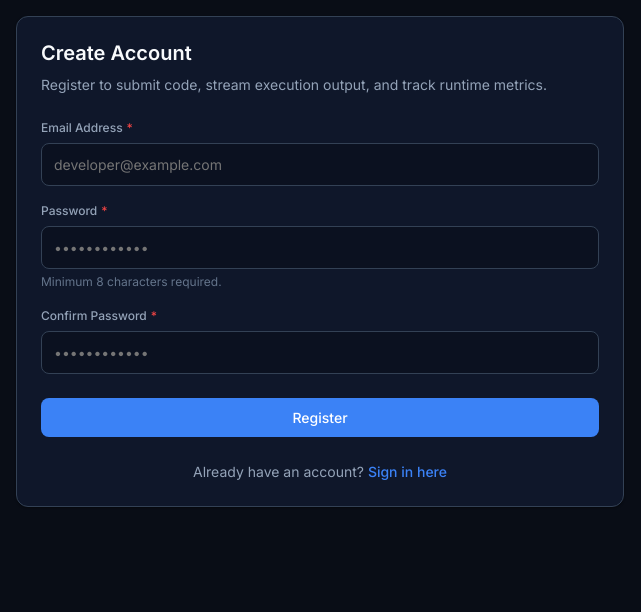
Test: RegisterPage › displays backend conflict error if email is already registered
The width and height of the screenshot is (641, 612).
Type "existing@example.com" into the field labelled "Email Address*" at (320, 164), box [41, 143, 599, 186]
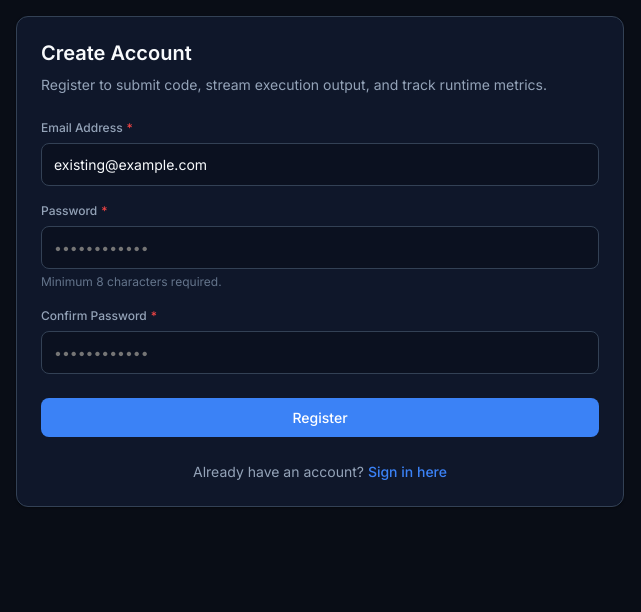
Type "password123" into the password field labelled "Password*" at (320, 248), box [41, 226, 599, 269]
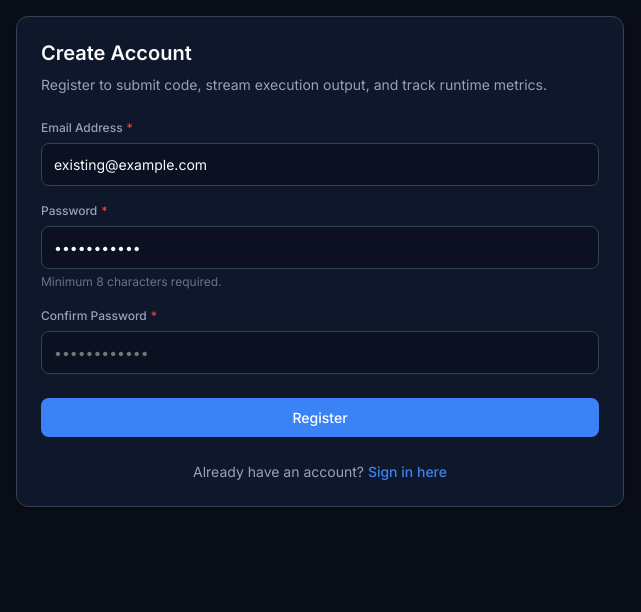
Type "password123" into the password field labelled "Confirm Password*" at (320, 352), box [41, 331, 599, 374]
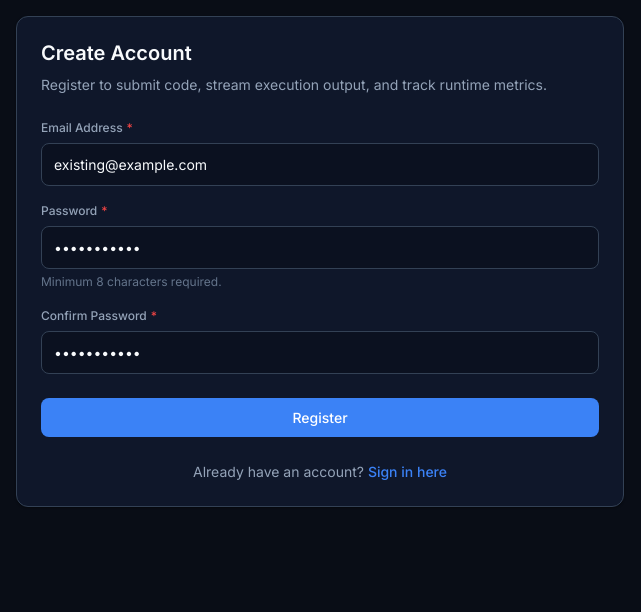
Click the button "Register" at (320, 418), box [41, 398, 599, 437]
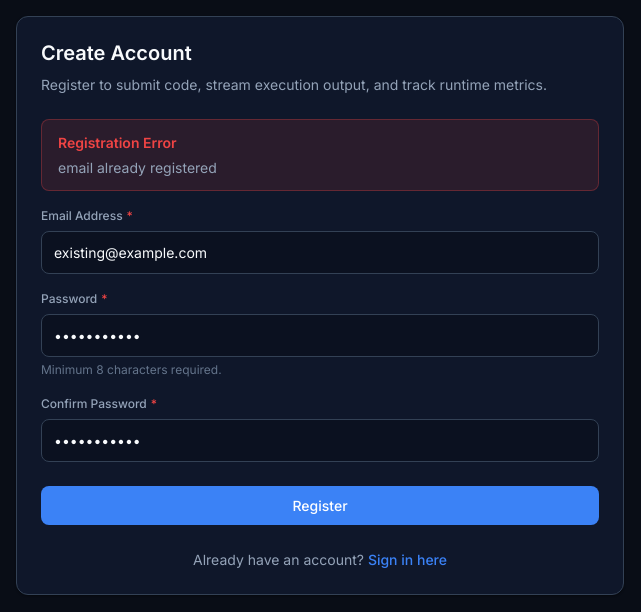
expect the text "email already registered" is shown: met, box [58, 159, 217, 176]
